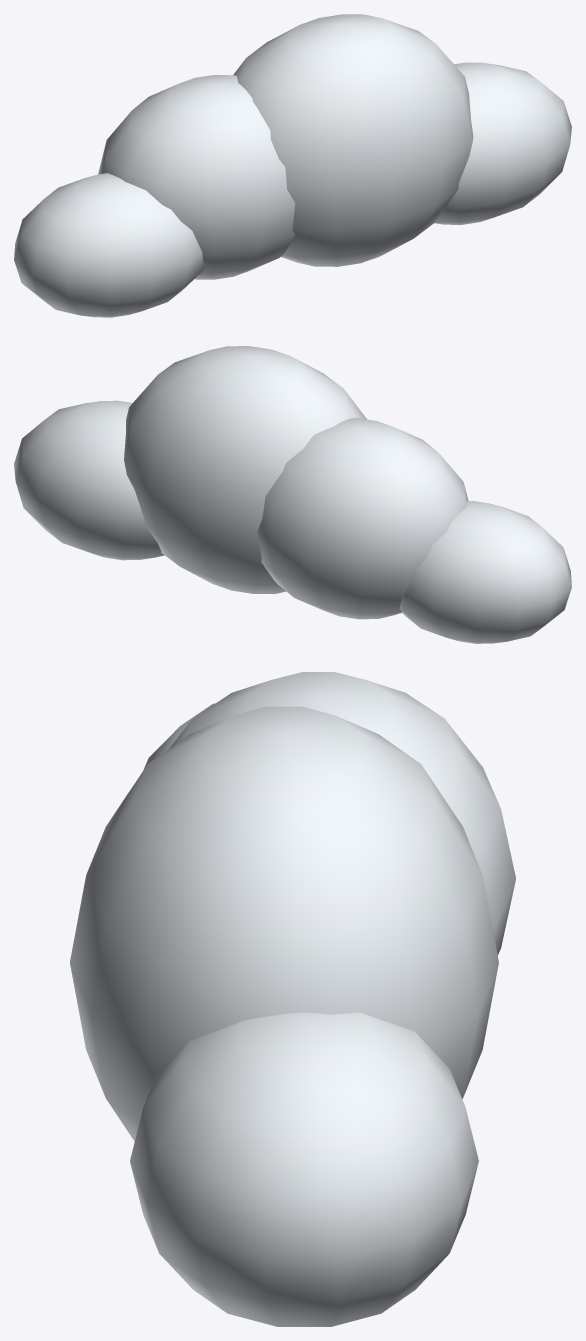
File: CloudPuffs.fbx
3 views of the same model, one above another, from view 1: azimuth 30°, elevation 25°; view 2: azimuth 150°, elevation 25°; view 3: azimuth 270°, elevation 25° (orthographic). The views are drawn at different scales.
Parts seen in each view (by area): view 1: CloudPuffs; view 2: CloudPuffs; view 3: CloudPuffs.
Part boxes in pixels (<box>): CloudPuffs: <box>14,14,571,317</box>; CloudPuffs: <box>14,346,571,643</box>; CloudPuffs: <box>70,672,515,1326</box>.
Bounding box in the file's own units: 4.31 × 1.76 × 1.56.
1 material, 1 textured.
